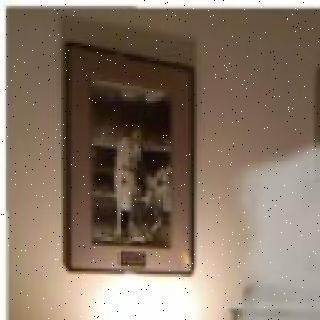smoke: (221, 128, 320, 320)
